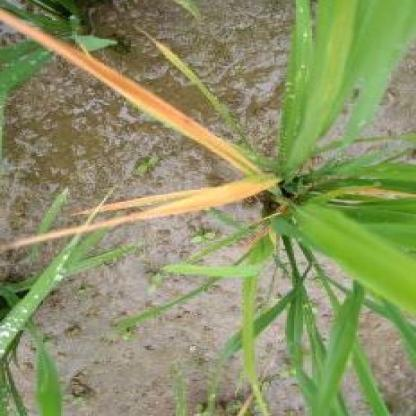Tungro: (3, 9, 255, 175), (20, 174, 291, 252)
